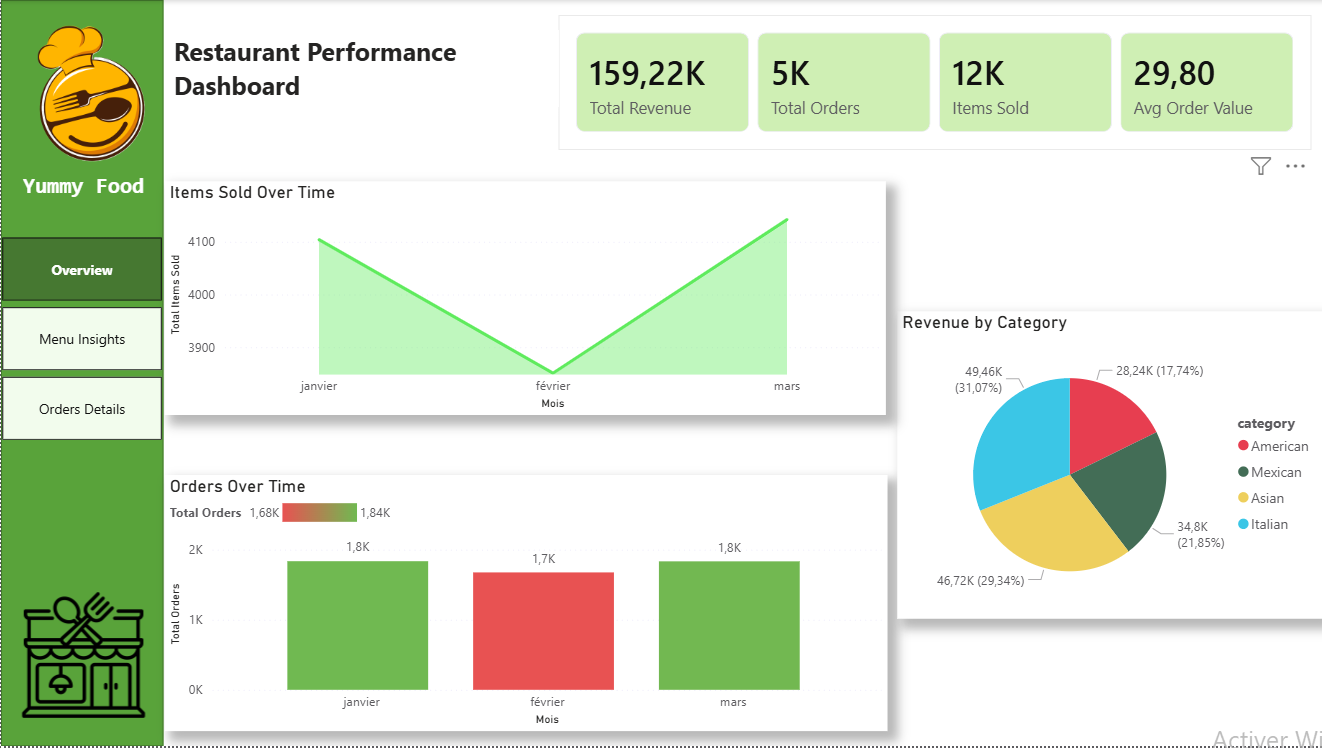

What the dashboard file says about the page in this screenshot:
{"tool":"powerbi","page":{"name":"Overview","canvas":[1280,720],"ordinal":0},"visuals":[{"type":"shape","box":[0,0,156.8,720.2],"z":0},{"type":"columnChart","title":"Orders Over Time","fields":{"Category":["restaurant_db order_details.order_date.Variation.Hiérarchie de dates.Mois","restaurant_db order_details.order_date.Variation.Hiérarchie de dates.Jour"],"Y":["Mesures.Total Orders"]},"box":[158,458.4,697.3,247.3],"z":1000},{"type":"pieChart","title":"Revenue by Category","fields":{"Category":["restaurant_db menu_items.category"],"Y":["Mesures.Total Revenue"]},"box":[865,300.4,411.4,296.8],"z":2000},{"type":"cardVisual","fields":{"Data":["Mesures.Total Revenue","Mesures.Total Orders","Mesures.Total Items Sold","Mesures.AOV"]},"box":[538.1,14.5,726.3,130.3],"z":3000},{"type":"areaChart","title":"Items Sold Over Time","fields":{"Category":["restaurant_db order_details.order_date.Variation.Hiérarchie de dates.Mois","restaurant_db order_details.order_date.Variation.Hiérarchie de dates.Jour"],"Y":["Mesures.Total Items Sold"]},"box":[158,174.9,696.1,225.6],"z":4000},{"type":"image","box":[0,0,173.7,179.8],"z":5000},{"type":"actionButton","box":[9.7,144.8,139.9,68.8],"z":6000},{"type":"image","box":[18.1,558.6,123.1,147.2],"z":7000},{"type":"pageNavigator","box":[1.2,229.2,154.4,197.9],"z":8000},{"type":"textbox","box":[161.7,29,376.4,74.8],"z":9000}]}

Visuals, with their boxes on the page's 1280x720 design canvas (x1, y1, x2, y2). These are canvas units, not pixel positions in the 1322x748 screenshot, which may show the page scaled, cropped or inside an application window:
shape: bbox=(0, 0, 157, 720)
"Orders Over Time" columnChart: bbox=(158, 458, 855, 706)
"Revenue by Category" pieChart: bbox=(865, 300, 1276, 597)
cardVisual - Mesures.Total Revenue x Mesures.Total Orders: bbox=(538, 14, 1264, 145)
"Items Sold Over Time" areaChart: bbox=(158, 175, 854, 400)
image: bbox=(0, 0, 174, 180)
actionButton: bbox=(10, 145, 150, 214)
image: bbox=(18, 559, 141, 706)
pageNavigator: bbox=(1, 229, 156, 427)
textbox: bbox=(162, 29, 538, 104)
